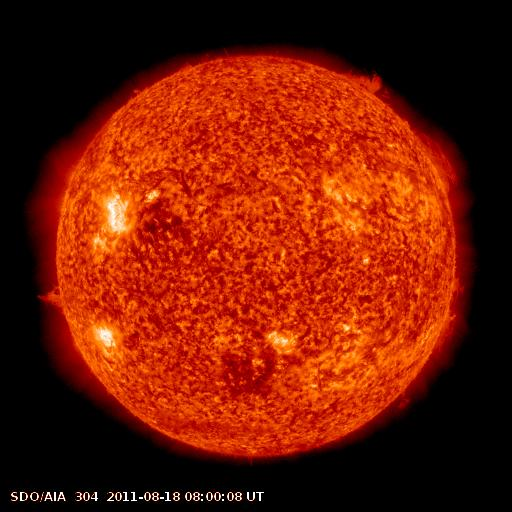prominence: (406, 113, 472, 202), (430, 268, 481, 333), (335, 59, 387, 98), (32, 282, 78, 323)
